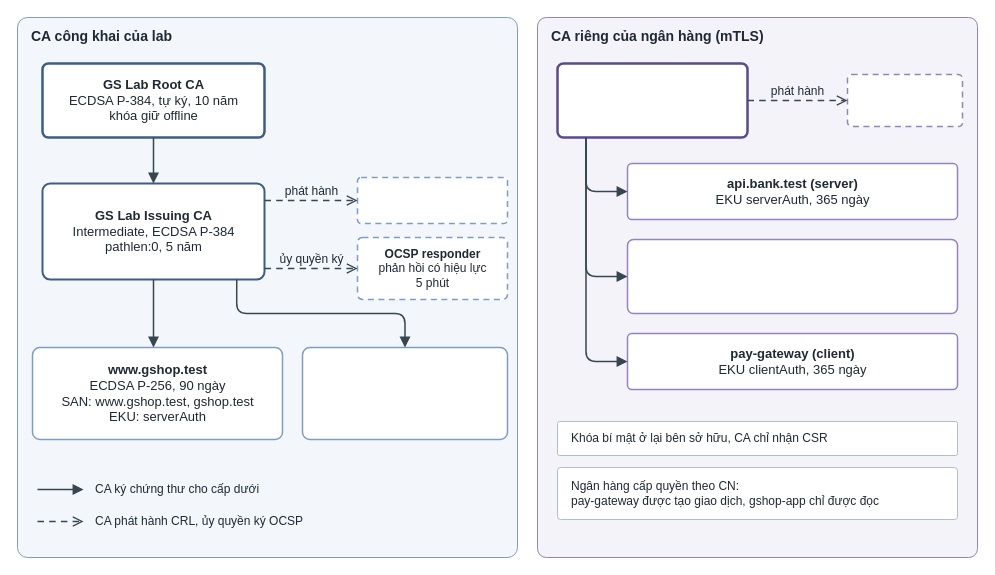
The diagram is 995 pixels wide and 575 high, and some of its shapes have lost their labels. The box of each missing label's shape, as (x1, y1, x2, y2) in pixels:
Bank Lab mTLS CA ECDSA P-256, tự ký 10 năm: (556, 62, 748, 138)
CRL của Bank CA: (846, 73, 963, 127)
CRL nextUpdate 1 ngày: (356, 176, 508, 224)
gshop-app (client) EKU clientAuth, 365 ngày ký từ CSR do G-Shop gửi: (626, 238, 958, 314)
pay.gateway.test ECDSA P-256, 90 ngày SAN: pay.gateway.test EKU: serverAuth: (301, 346, 508, 440)
